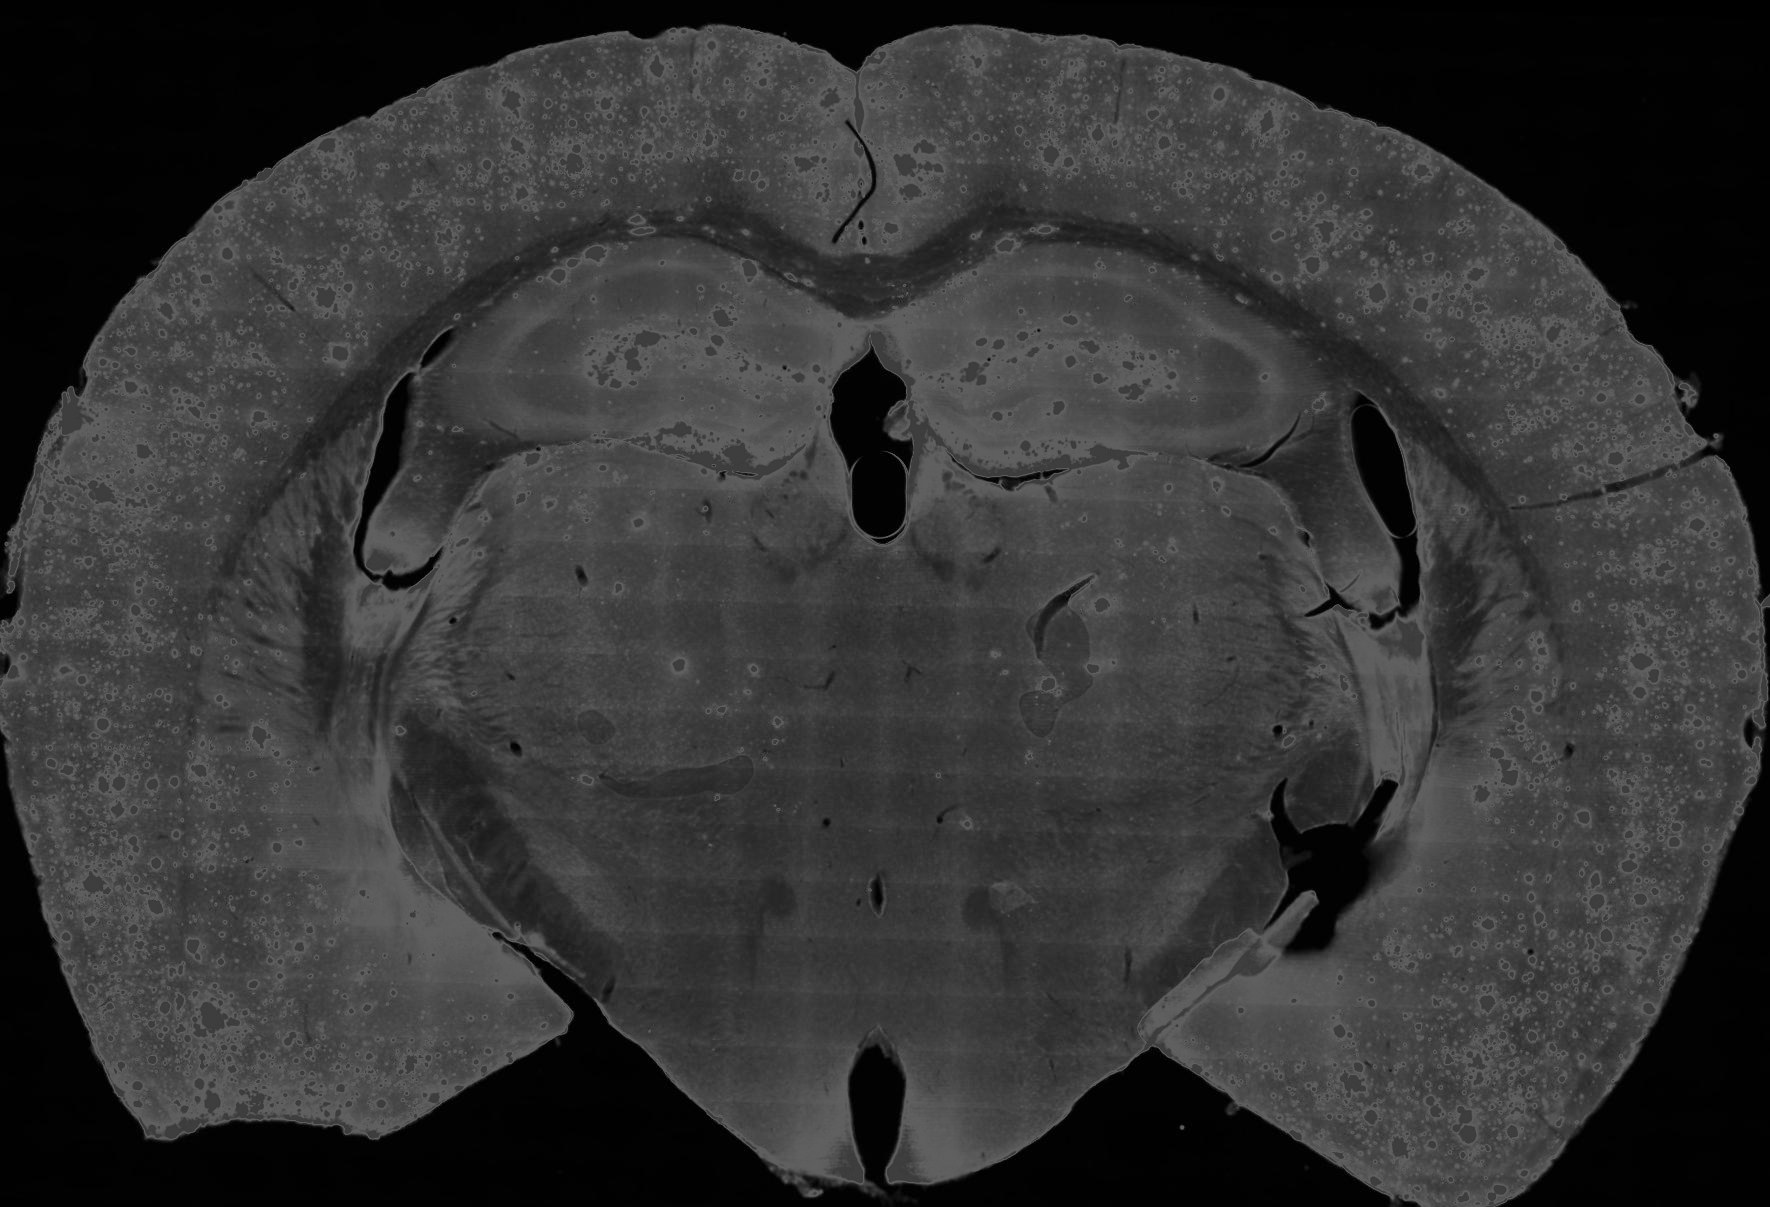Cerebral nuclei: (194, 406, 374, 875), (1404, 435, 1562, 841)
Hippocampal formation: (869, 244, 1332, 476), (444, 237, 872, 474)
Hypothalamus: (876, 743, 1311, 1187), (463, 751, 876, 1187)
Retrosplenial area: (857, 30, 975, 258), (751, 36, 862, 260)
Somatosensory area: (1106, 43, 1718, 514), (79, 59, 578, 436)
Thalamus: (393, 409, 881, 819), (876, 431, 1358, 828)
